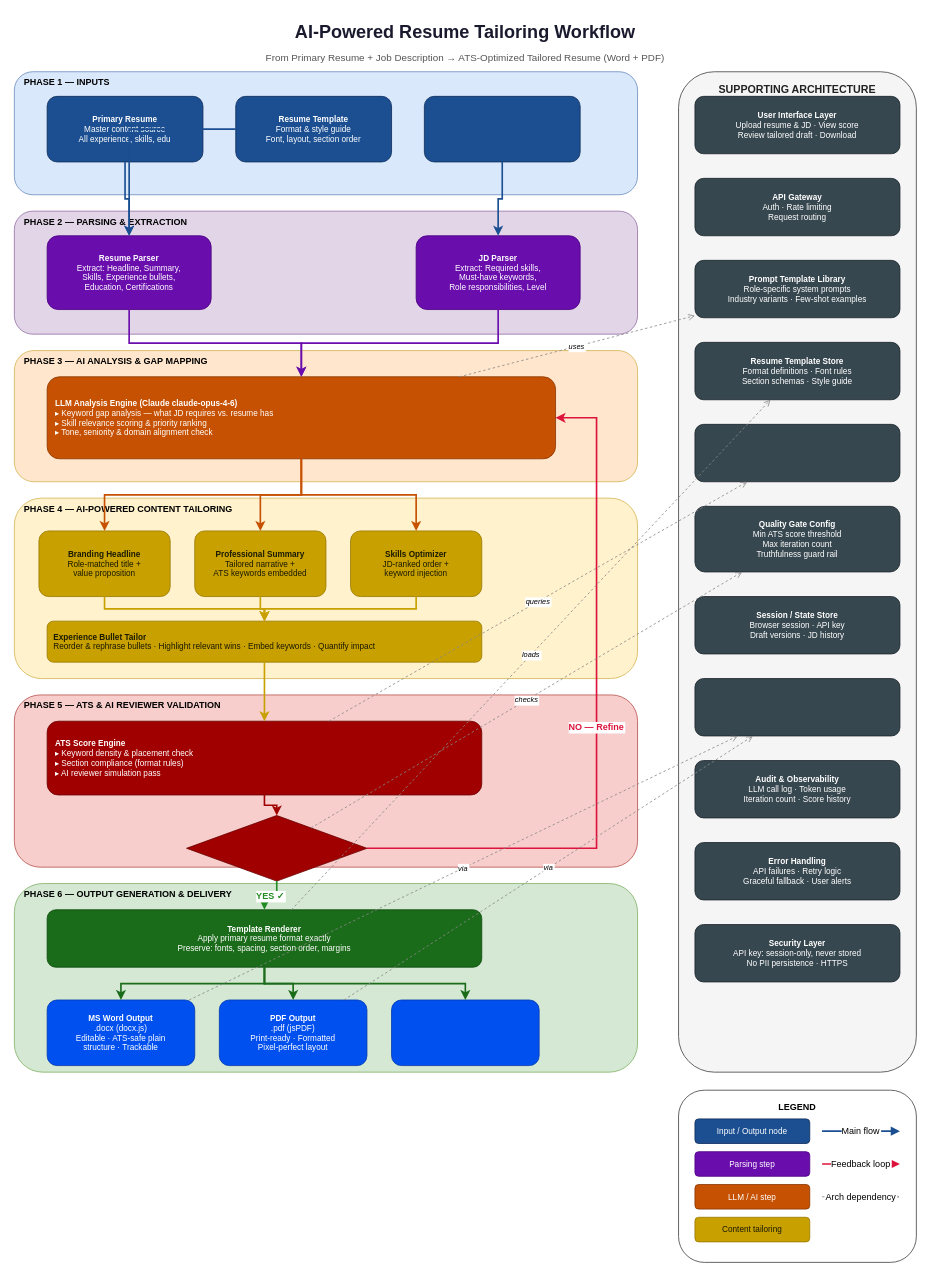
The diagram is 931 pixels wide and 1277 high, and some of its shapes have lost their labels. The centre of each missing label's shape, as x and y in pixels:
ATS Rules Database Workday · Greenhouse · Taleo Keyword weights · Format rules: the point at 797,453
Export Engine docx.js 8.2.4 · jsPDF 2.5.1 FileSaver.js · Font embed: the point at 797,707
Job Description Target role posting Company context: the point at 502,129
Score ≥ Target? ATS ≥ 80% & AI ≥ 90%: the point at 276,848
User Download FileSaver.js · Browser direct download trigger: the point at 465,1032
